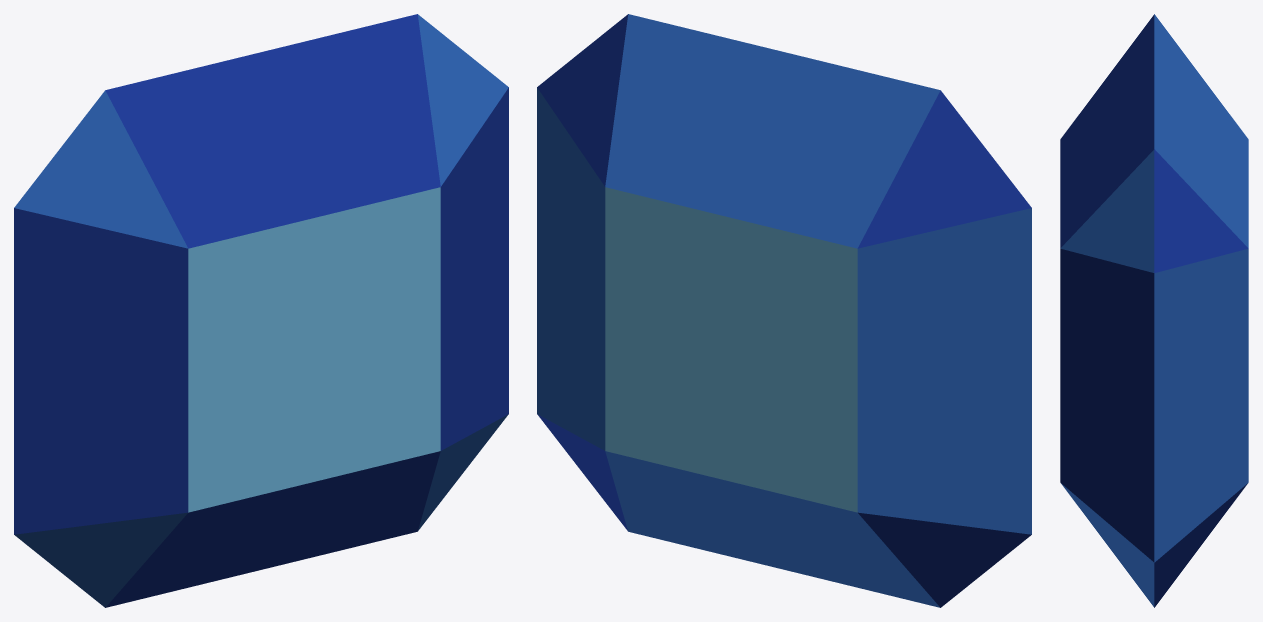
Rendered from Jewel_E.fbx.
The picture shows the model from 3 angles, left to right: view 1: azimuth 30°, elevation 25°; view 2: azimuth 150°, elevation 25°; view 3: azimuth 270°, elevation 25°; orthographic projection. The views are drawn at different scales.
Parts seen in each view (by area): view 1: Jewel_E; view 2: Jewel_E; view 3: Jewel_E.
Part boxes in pixels (left/top/right/bottom): Jewel_E: left=14, top=14, right=508, bottom=607; Jewel_E: left=537, top=14, right=1031, bottom=607; Jewel_E: left=1060, top=14, right=1248, bottom=607.
Size of the model in its own units: 0.2061 by 0.206 by 0.0766.
